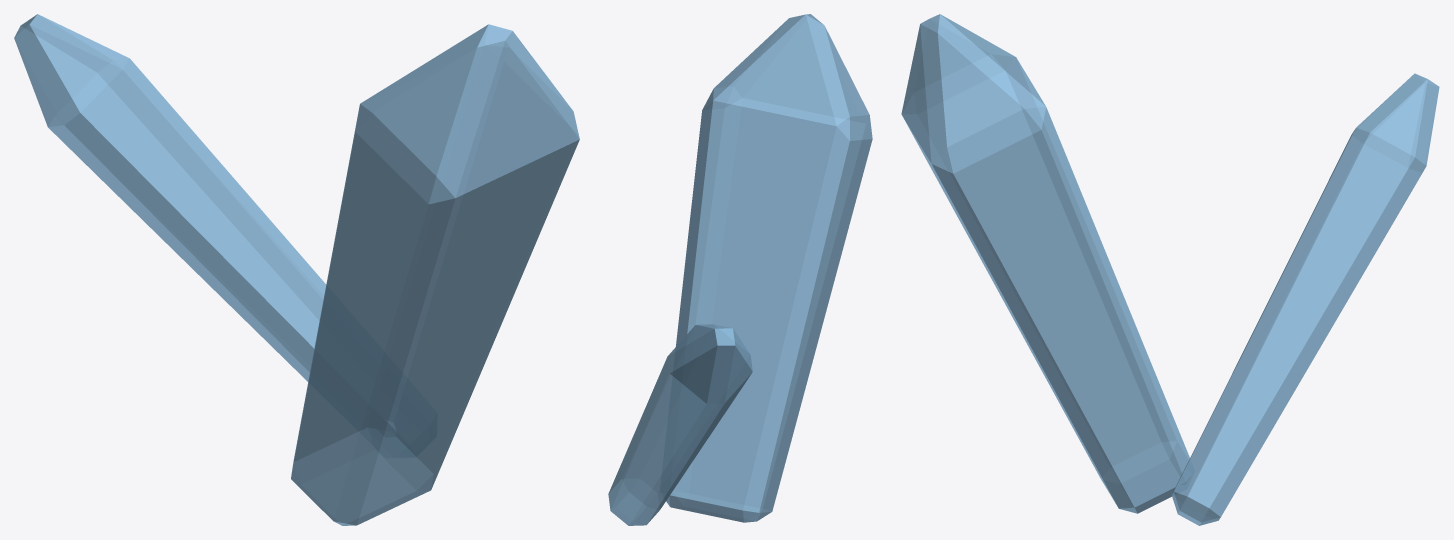
The model's file is Crystal2.glb.
The picture shows the model from 3 angles, left to right: view 1: azimuth 30°, elevation 25°; view 2: azimuth 150°, elevation 25°; view 3: azimuth 270°, elevation 25°; orthographic projection. The views are drawn at different scales.
Visible parts, largest first — view 1: Crystal.001; view 2: Crystal.001; view 3: Crystal.001.
Part boxes in pixels (left/top/right/bottom): Crystal.001: left=14, top=14, right=579, bottom=525; Crystal.001: left=608, top=14, right=872, bottom=525; Crystal.001: left=901, top=14, right=1439, bottom=525.
Size of the model in its own units: 0.6404 by 1.2 by 1.2.
